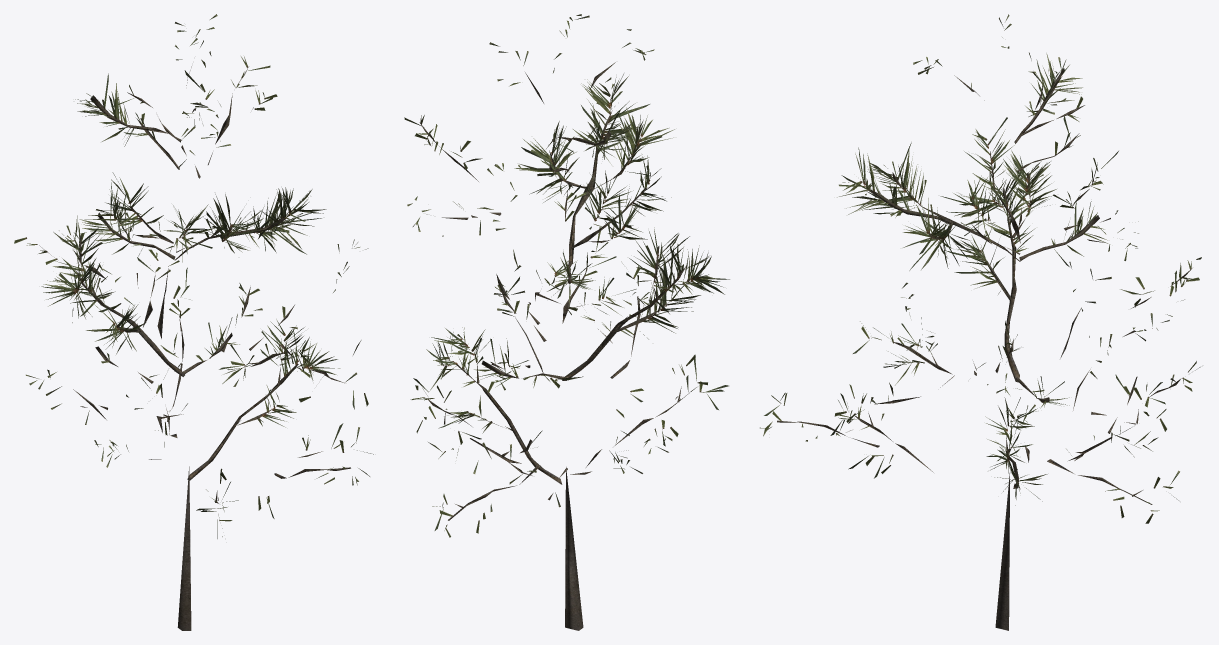
File: pine_sapling_small-far.glb
The picture shows the model from 3 angles, left to right: view 1: azimuth 30°, elevation 25°; view 2: azimuth 150°, elevation 25°; view 3: azimuth 270°, elevation 25°; orthographic projection.
Visible parts, largest first — view 1: pine_sapling_small_b; view 2: pine_sapling_small_b; view 3: pine_sapling_small_b.
Boxes of the visible parts, x1,y1,x2,y2 form: pine_sapling_small_b: [14, 14, 373, 630]; pine_sapling_small_b: [404, 14, 729, 630]; pine_sapling_small_b: [760, 14, 1201, 630].
Bounding box in the file's own units: 0.5247 × 1.04 × 0.6874.
2 materials, 2 textured.
